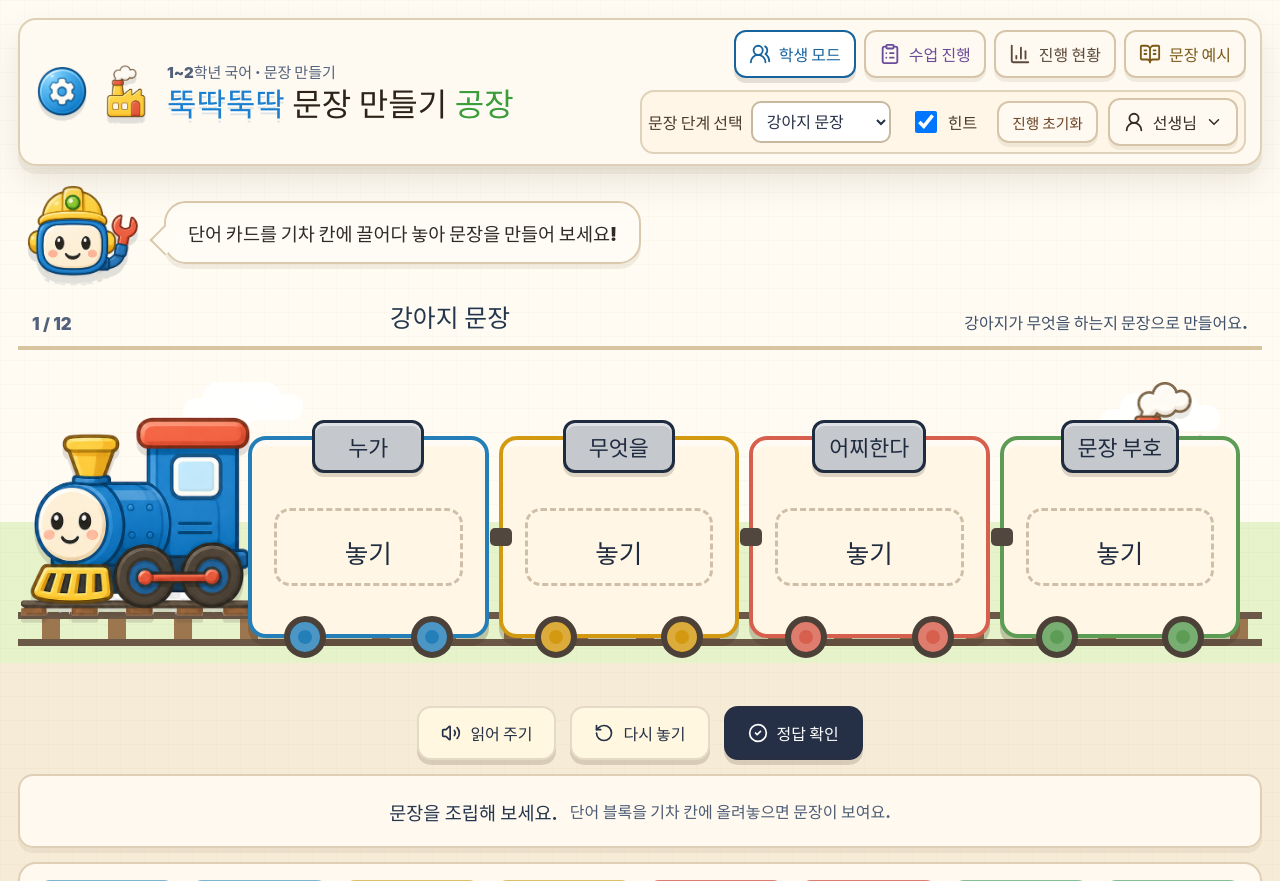
Test: lets the teacher choose a different puzzle
Select "물음표 문장" in the dropdown labelled "문장 단계 선택": [821, 122] box [751, 101, 891, 143]
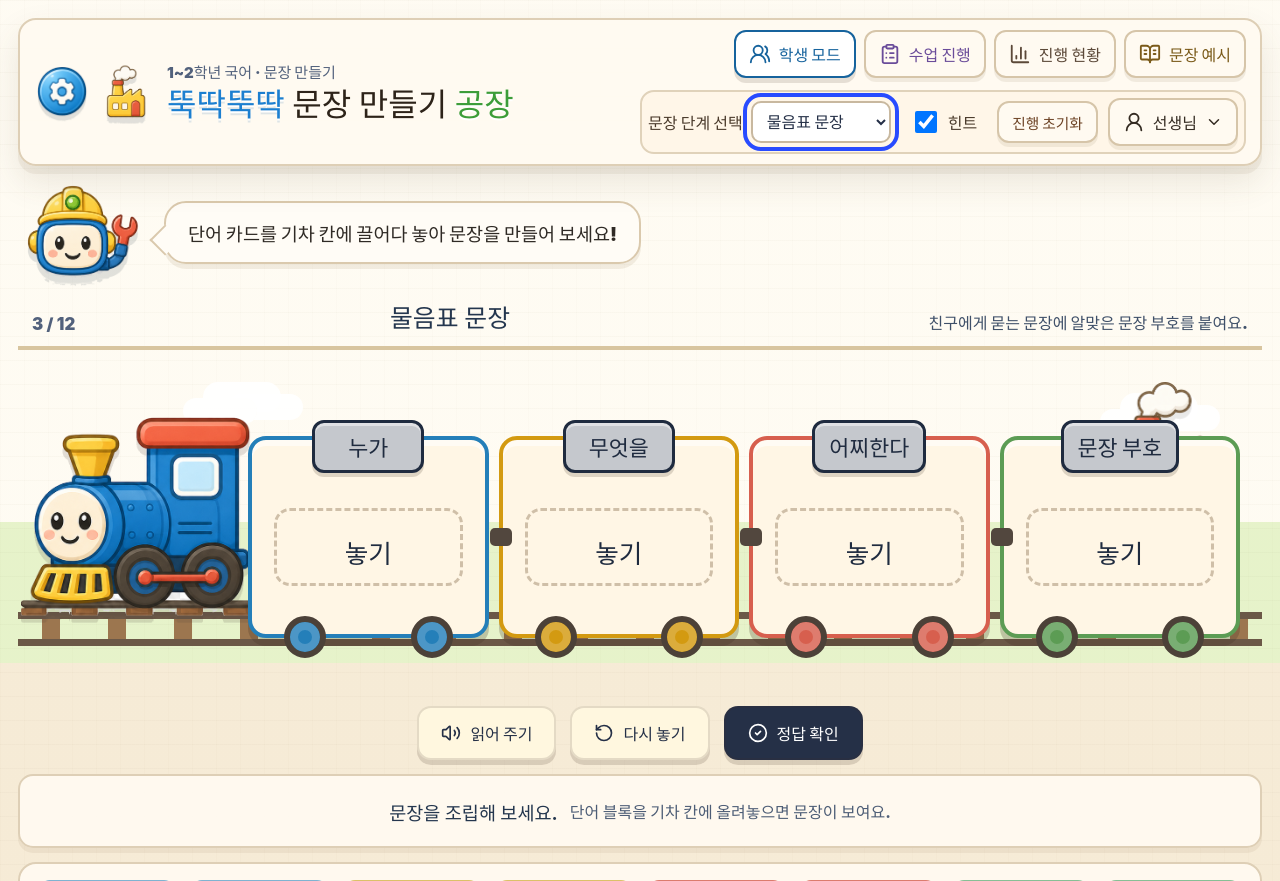
Expected: the heading "물음표 문장" is shown, [390, 303, 510, 333]
